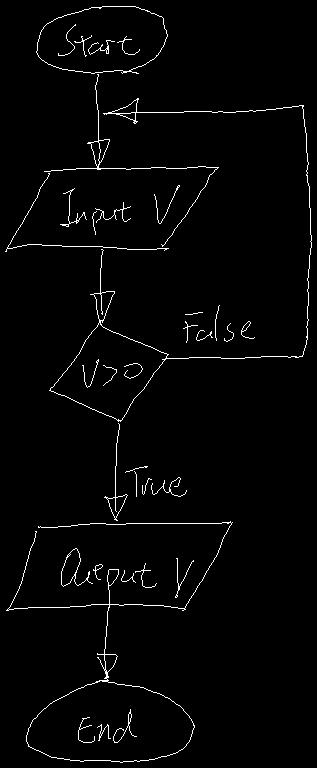arrow: (103, 98, 311, 359), (104, 423, 127, 520), (87, 74, 109, 169), (90, 249, 114, 324), (97, 607, 117, 679)
data: (6, 521, 232, 610), (5, 166, 218, 251)
decision: (49, 320, 168, 421)
terminator: (26, 680, 194, 762), (36, 6, 167, 73)
text: (61, 548, 193, 607), (60, 185, 179, 234), (183, 305, 254, 342), (58, 24, 139, 56), (78, 709, 136, 742), (125, 466, 186, 496), (82, 359, 142, 387)
